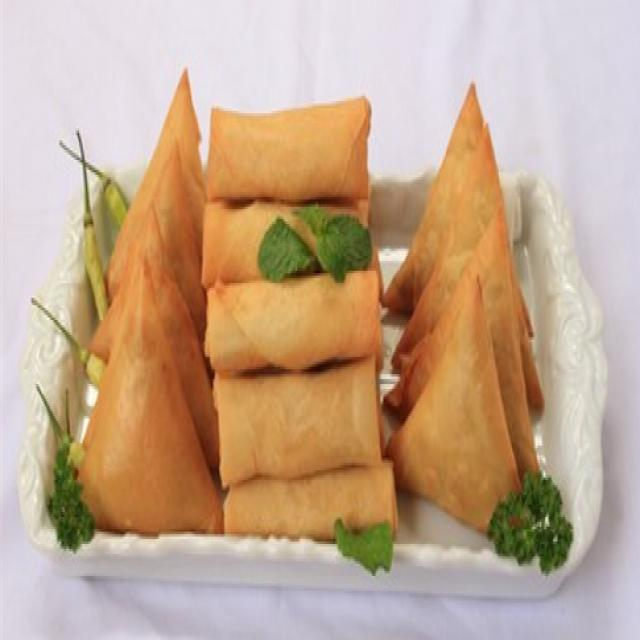Samosa: (389, 76, 549, 539), (76, 59, 218, 527)
Spring Rolls: (205, 89, 397, 554)
